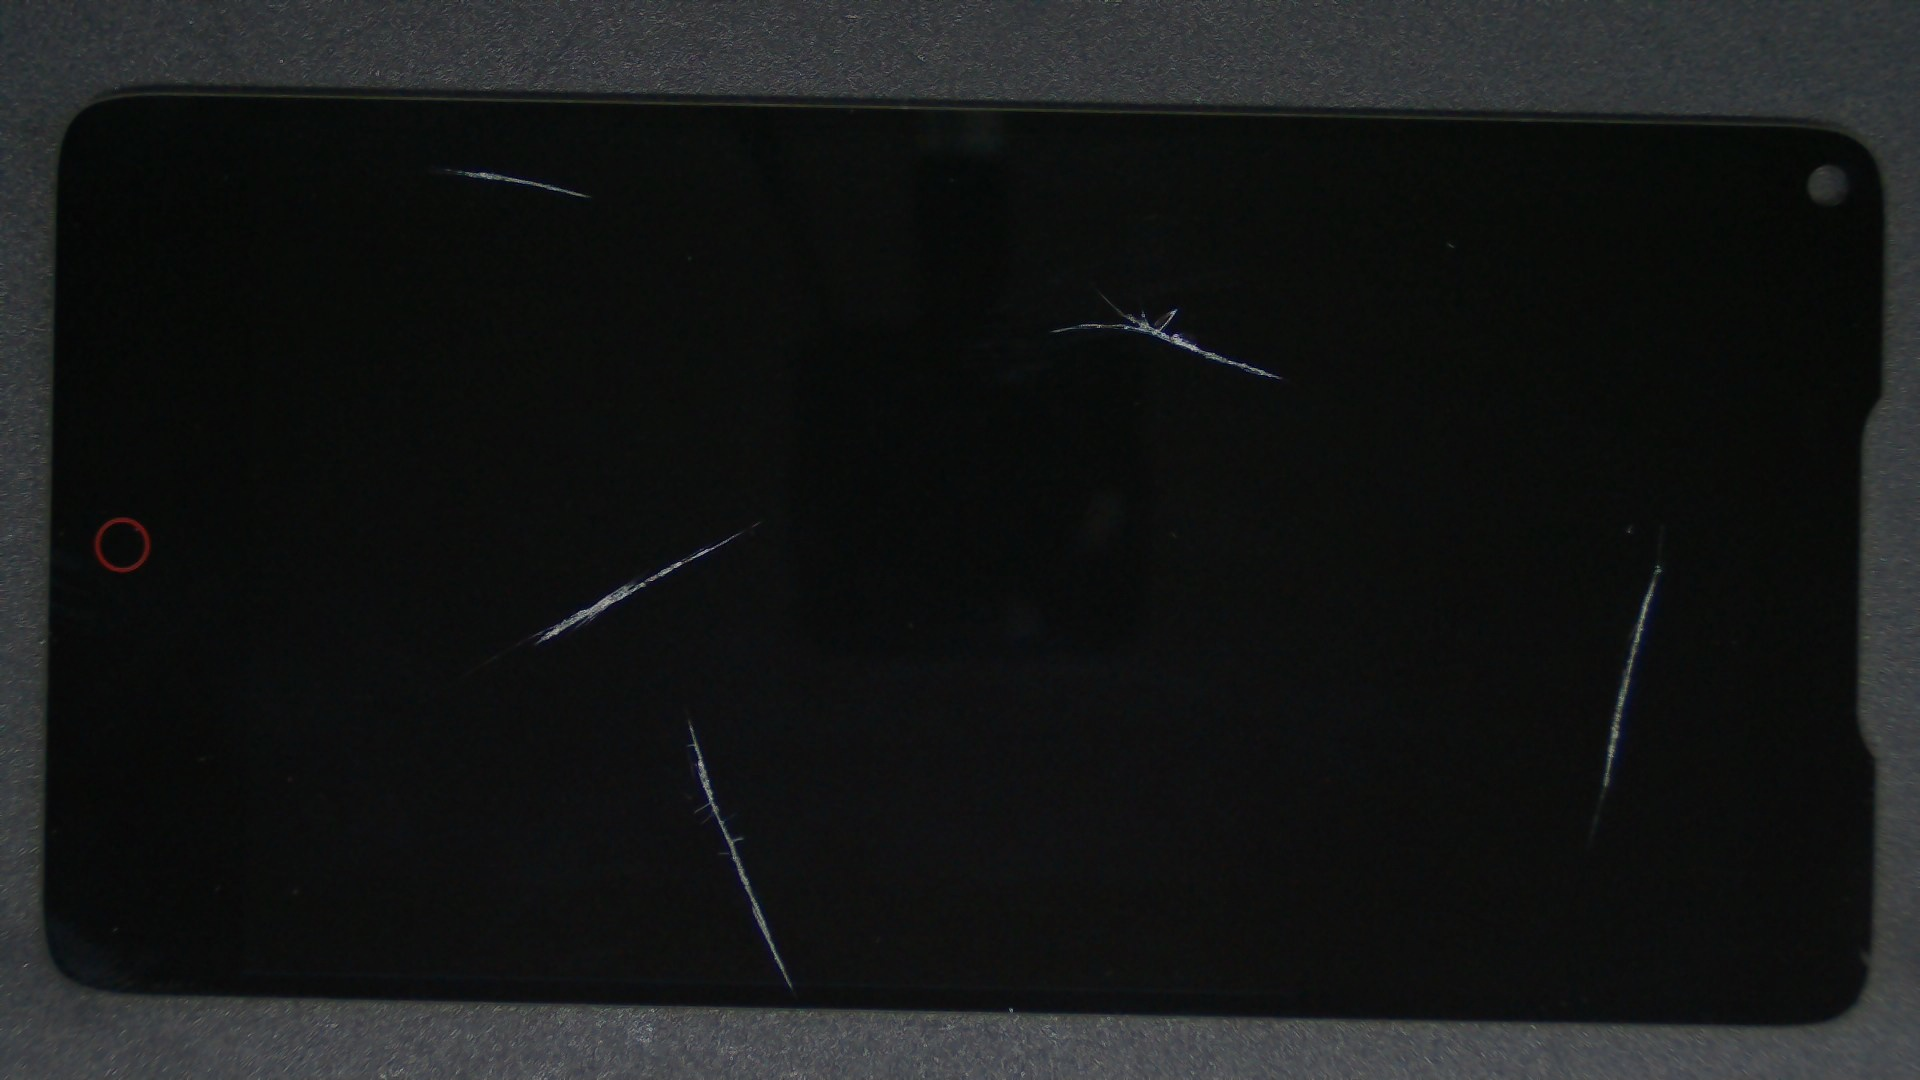oil: (828, 281, 1920, 844), (343, 357, 1030, 1080), (381, 260, 1141, 781), (550, 145, 1651, 440), (222, 83, 666, 255)
